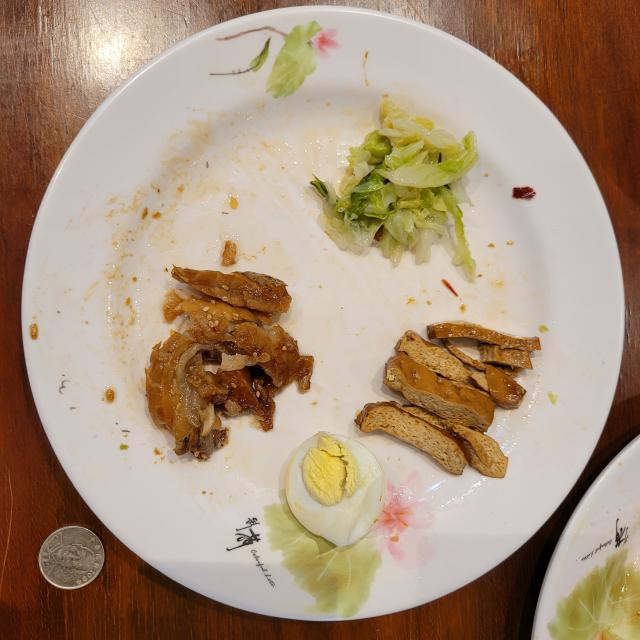Kabayaki sea bream fillet: (146, 266, 314, 459)
cabbage: (311, 99, 478, 278)
coin: (39, 525, 105, 590)
